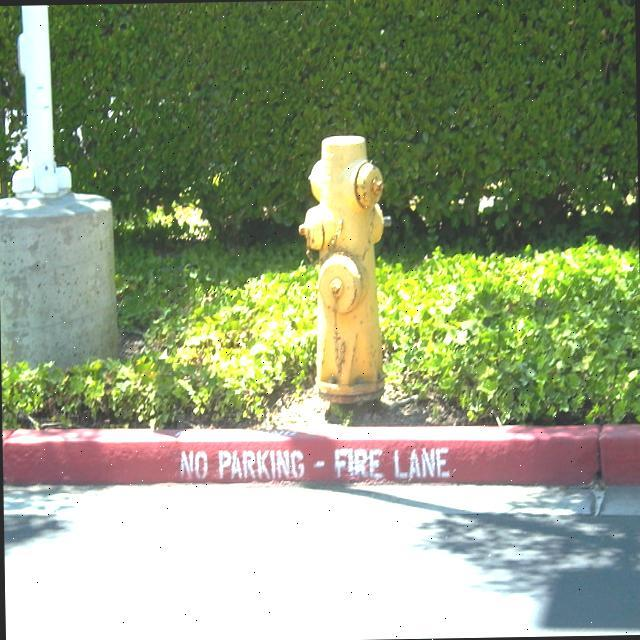fire_hydrant: (292, 130, 396, 402)
